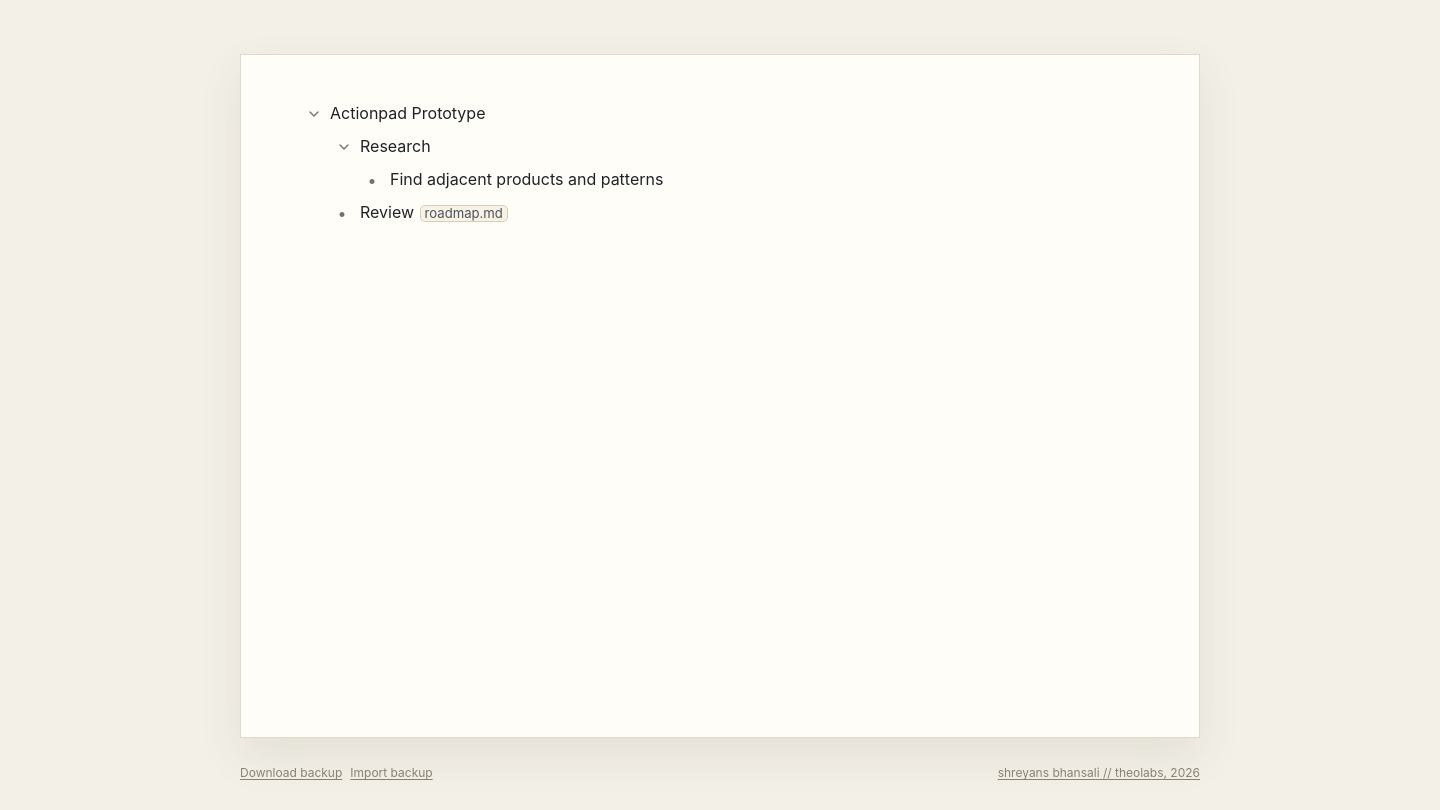
it: clicking an inserted markdown mention chip opens the side panel document viewer
Click the button with aria-label "open roadmap.md".
click(464, 214)  # box [420,205,508,222]
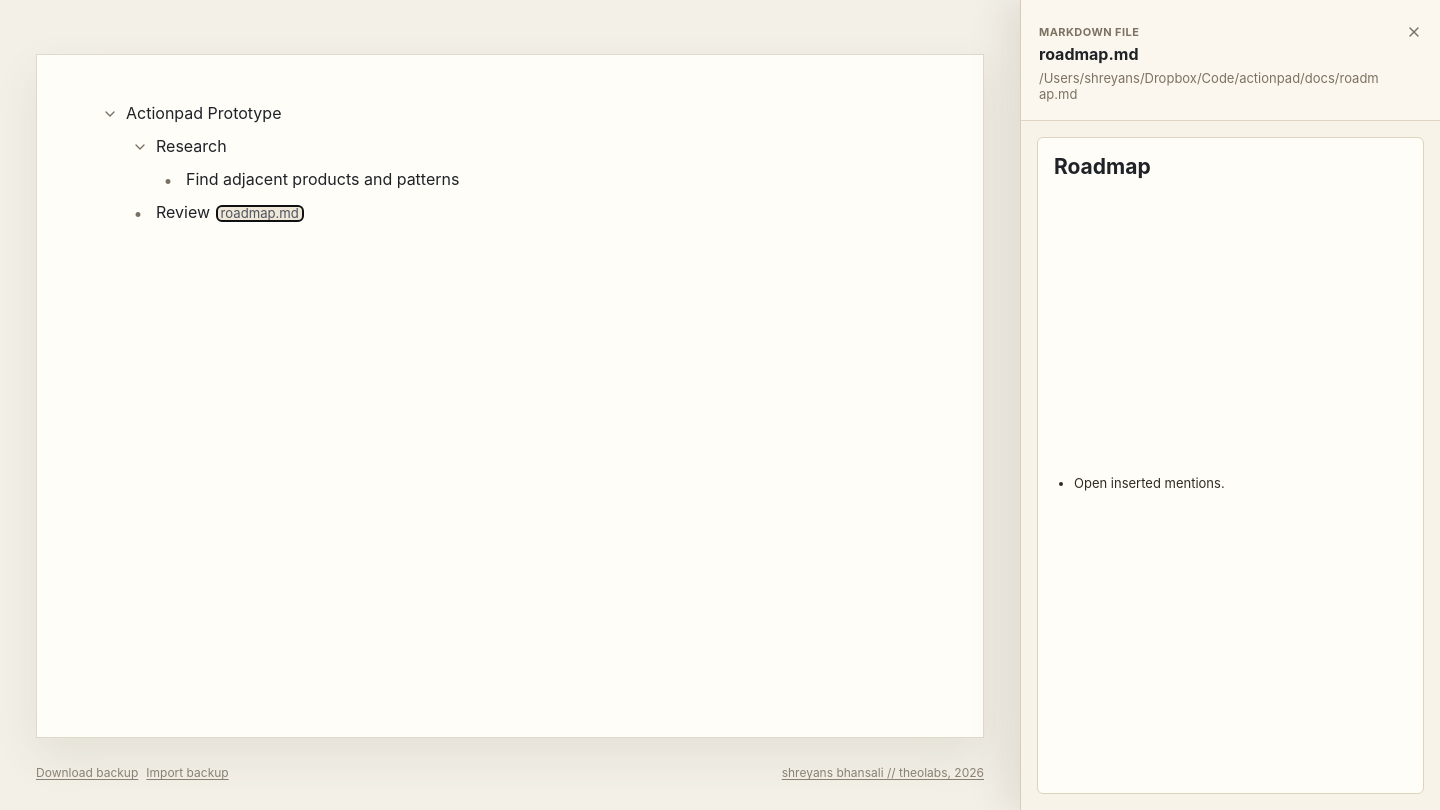
Expected: the heading "roadmap.md" is shown, [1039,44,1138,64]
Expected: the heading "Roadmap" is shown, [1054,154,1151,179]
Expected: the list item "Open inserted mentions." is shown, [1074,475,1225,491]
